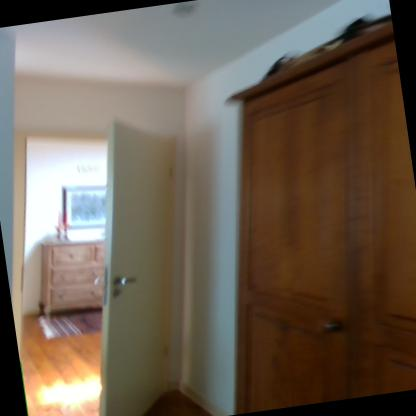semi: (0, 94, 234, 415)
